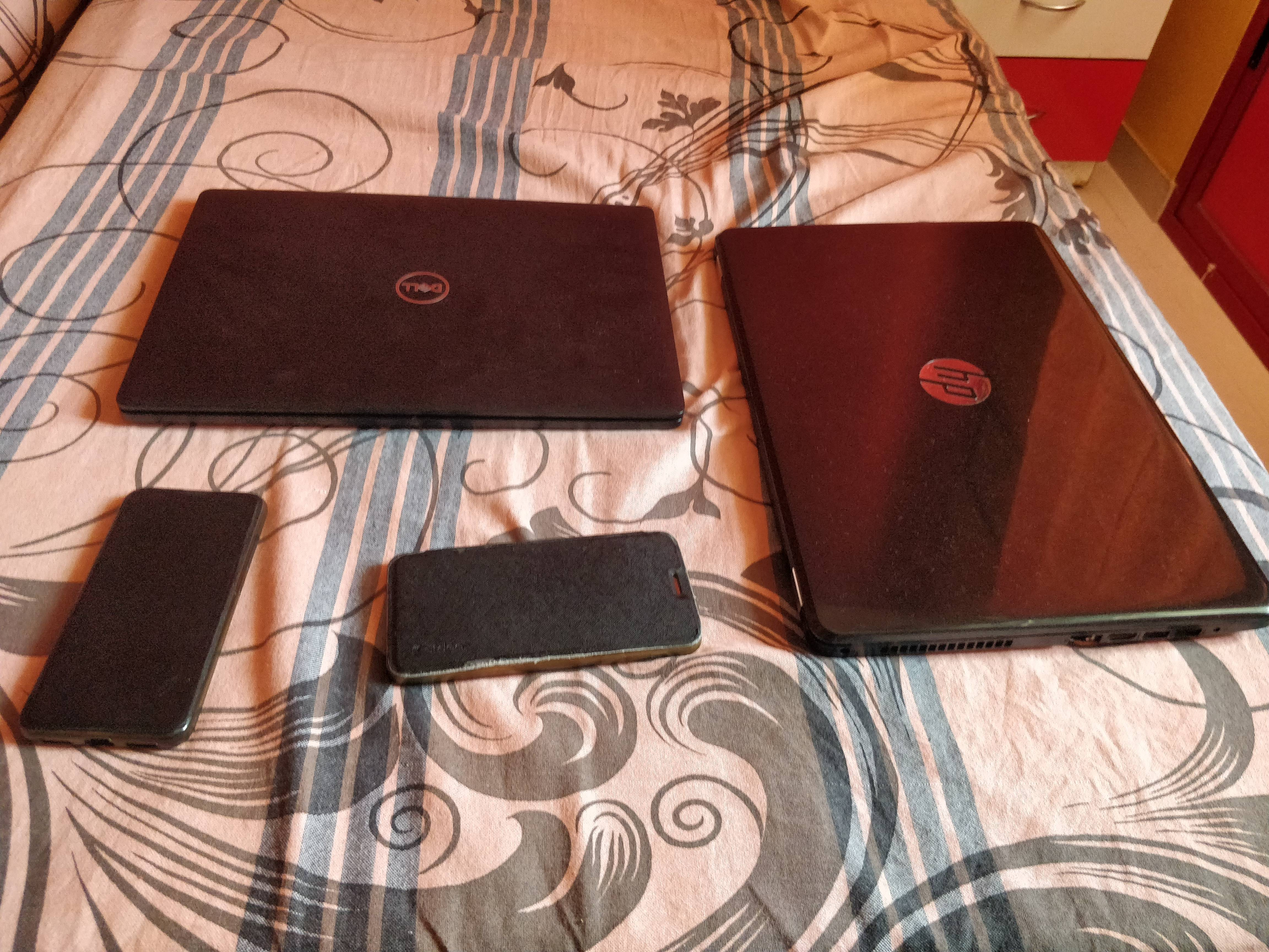Electronics: (705, 202, 1269, 672), (94, 178, 711, 454), (12, 476, 284, 770), (363, 509, 715, 703)
